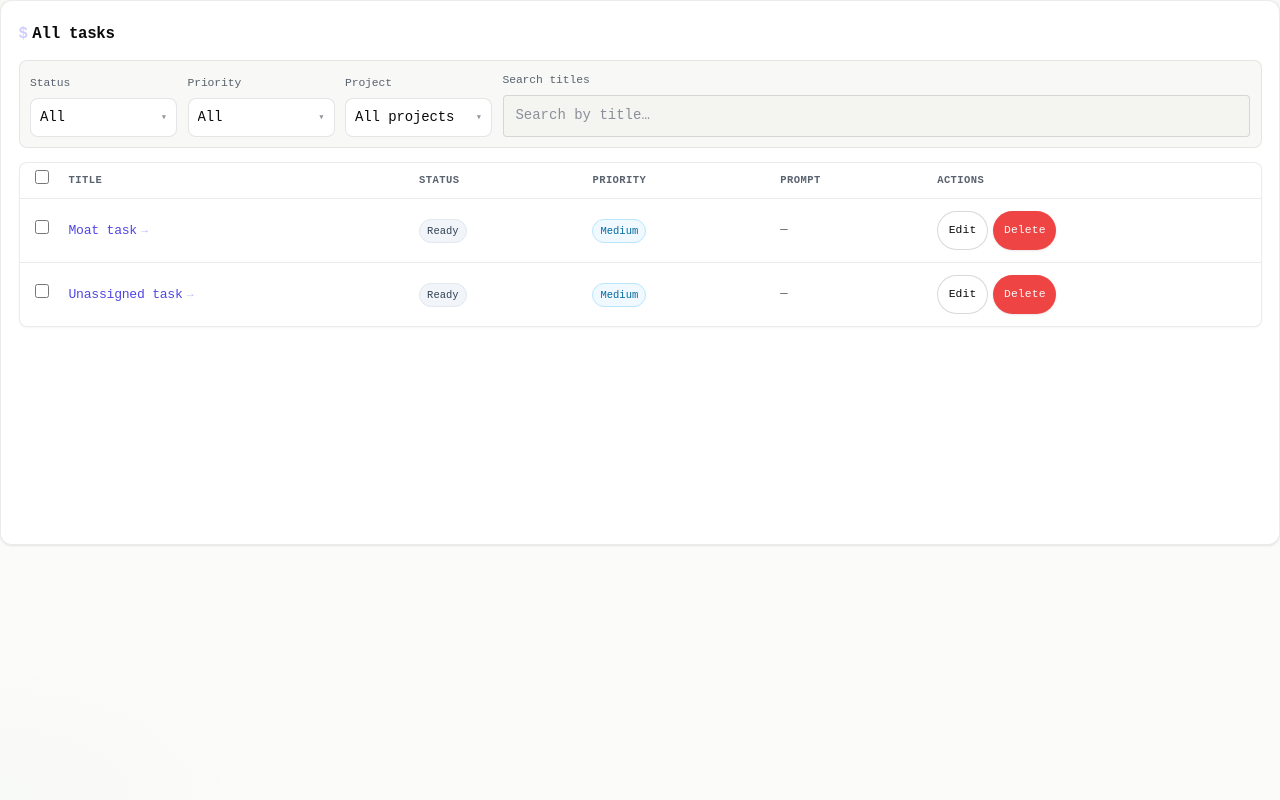
Scenario: TaskListSection › filters rows by project membership
Expected: the text "Moat task" is shown, [68,220,137,241]
Expected: the text "Unassigned task" is shown, [68,284,183,305]
What coordinates should you click on to do the following:
click the dropdown labelled "All projects ▾"
I would click on:
 (418, 117)
Its box is [345,98,492,137].
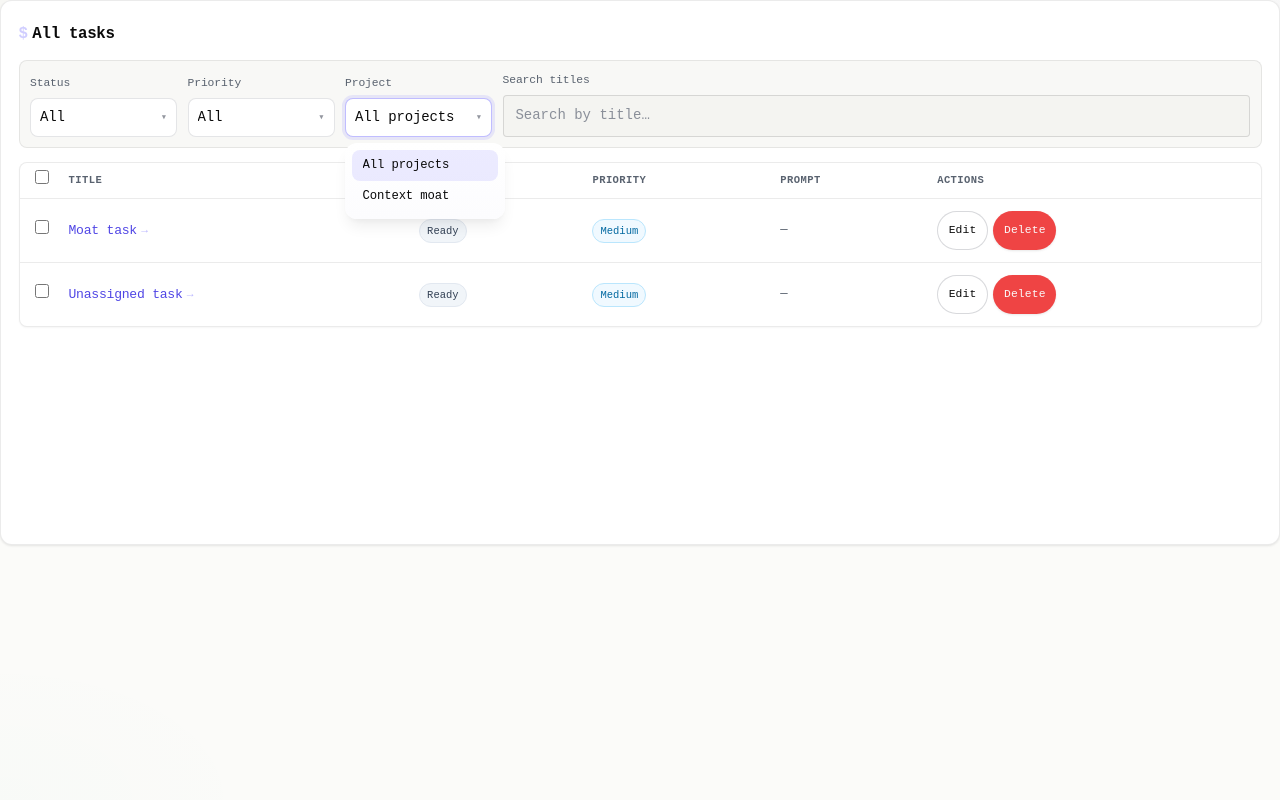
What coordinates should you click on to do the following:
click the option "Context moat"
I would click on:
 (406, 196)
Its box is [362,189,449,203].
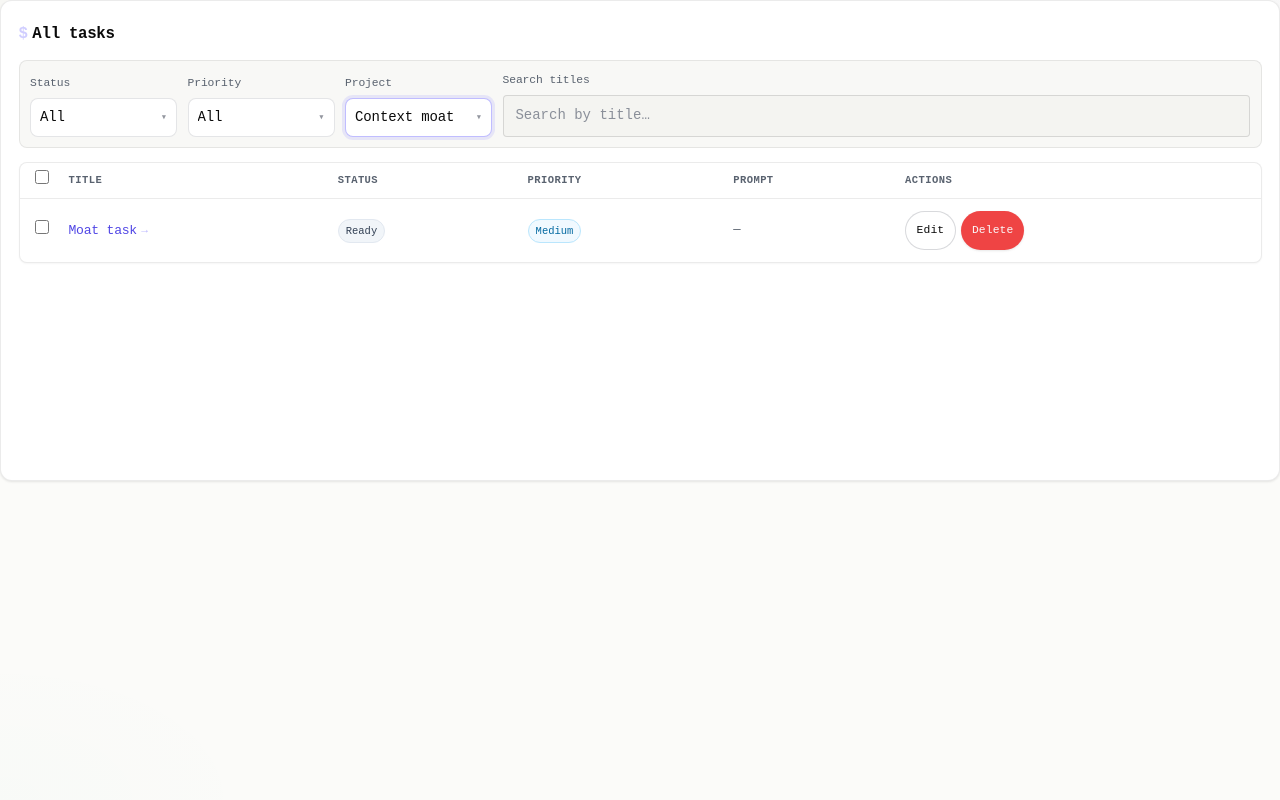
Expected: the text "Moat task" is shown, [68,220,137,241]
Result: the link "Unassigned task" is gone
What coordinates should you click on to do the following:
click the dropdown named "project"
I would click on:
 (418, 117)
Its box is [345,98,492,137].
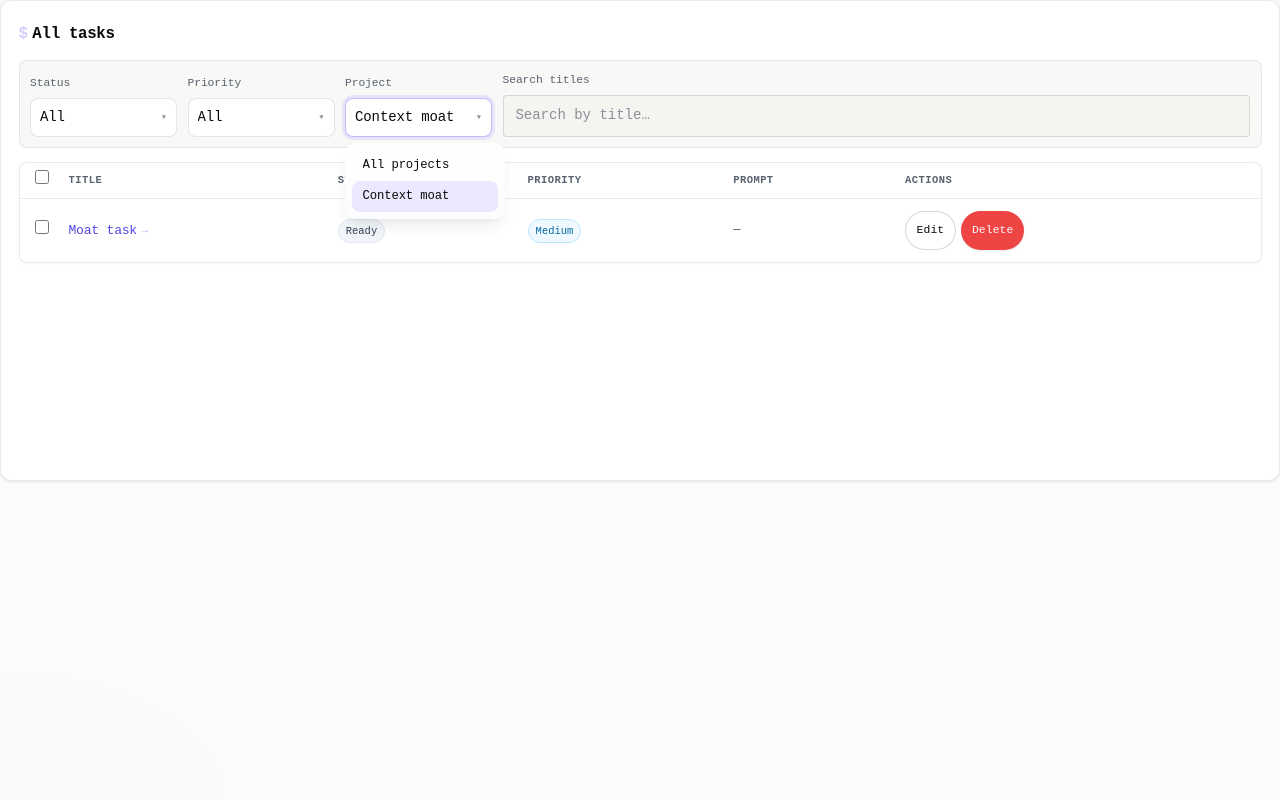
What coordinates should you click on to do the following:
click the option "All projects"
I would click on:
 (406, 165)
Its box is [362,158,449,172].
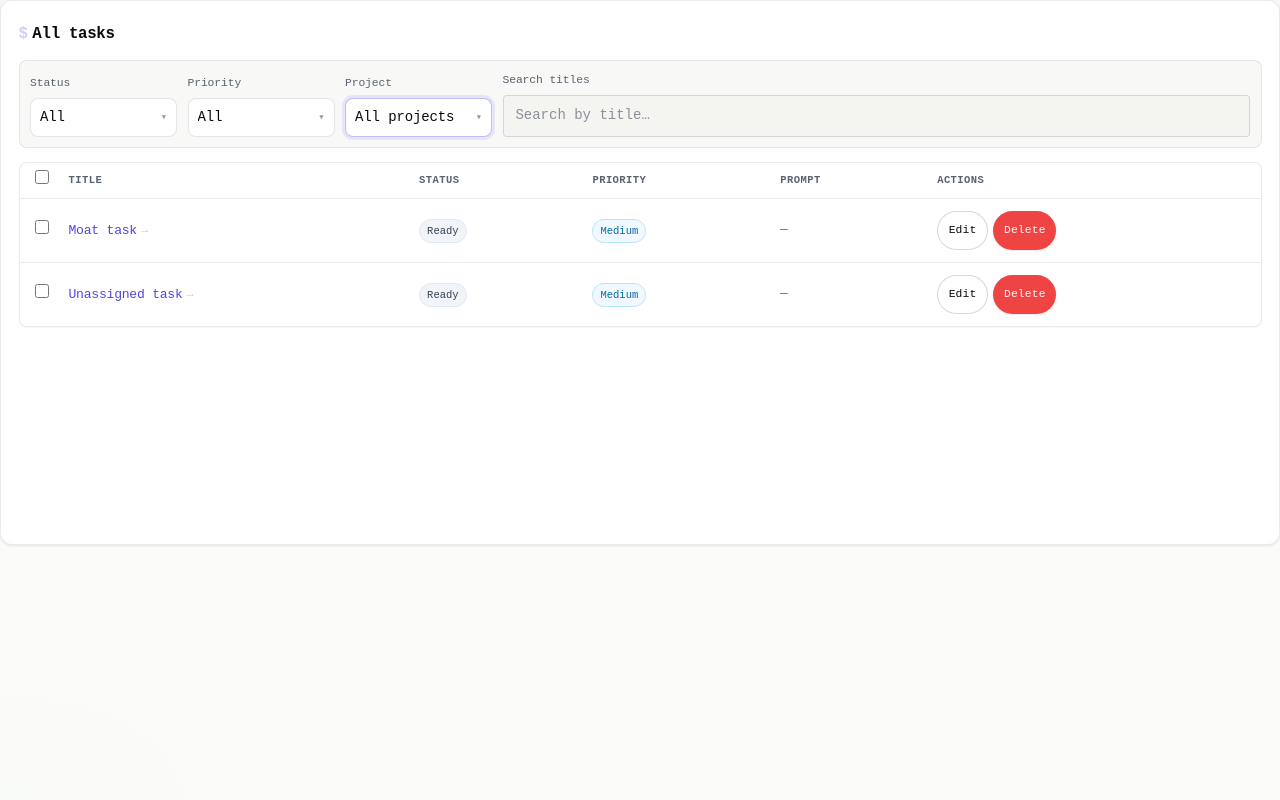
Expected: the text "Moat task" is shown, [68,220,137,241]
Result: the text "Unassigned task" is shown at [68,284,183,305]
